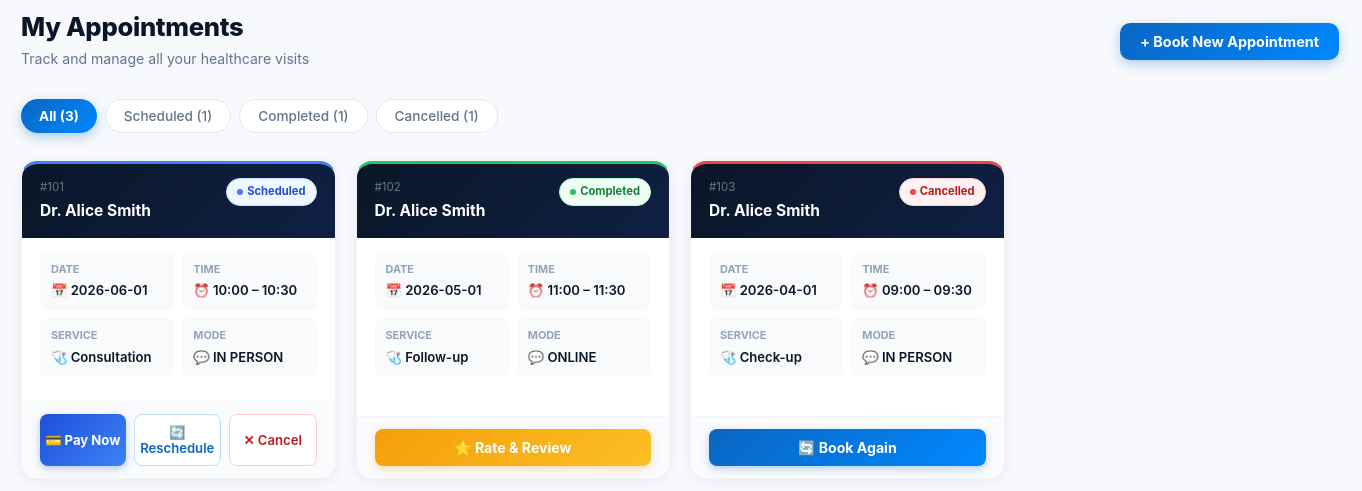
Scenario: MyAppointments Component › filters to only COMPLETED appointments when Completed tab is clicked
The image size is (1362, 491).
Click the button "Completed (1)": (303, 116) left=239, top=99, right=368, bottom=133
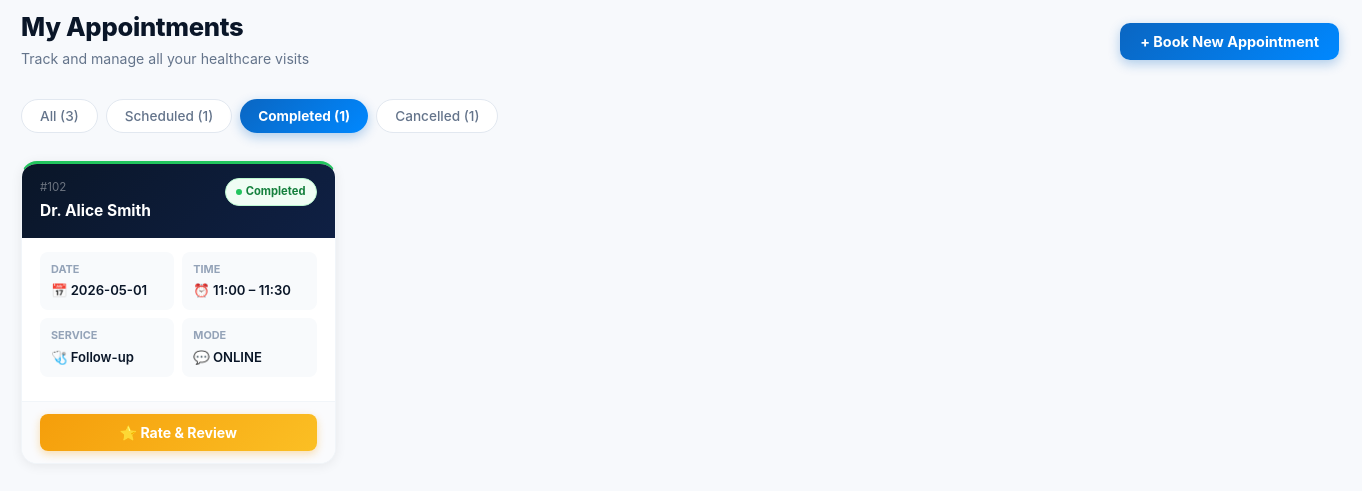
Expected: the text "#102" is shown, left=40, top=180, right=66, bottom=194
Expected: the text "#101" is gone
